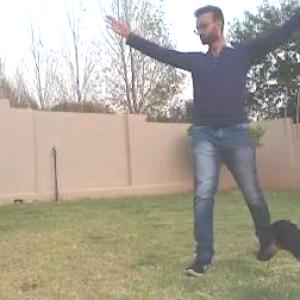takeoff: (51, 0, 299, 289)
